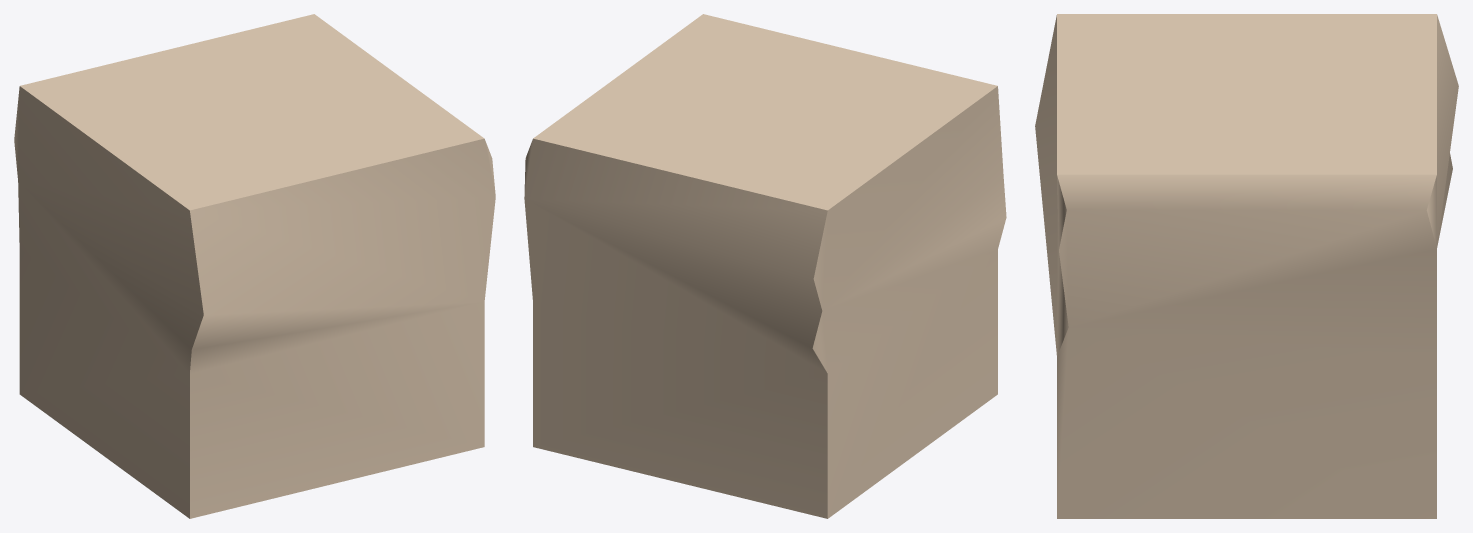
3 views of the same model, side by side, from view 1: azimuth 30°, elevation 25°; view 2: azimuth 150°, elevation 25°; view 3: azimuth 270°, elevation 25° (orthographic). The views are drawn at different scales.
Visible parts, largest first — view 1: cube_1; view 2: cube_1; view 3: cube_1.
Boxes of the visible parts, left/top/right/bottom form: cube_1: left=14, top=14, right=495, bottom=518; cube_1: left=524, top=14, right=1006, bottom=518; cube_1: left=1035, top=14, right=1458, bottom=518.
Size of the model in its own units: 105 by 100 by 112.
